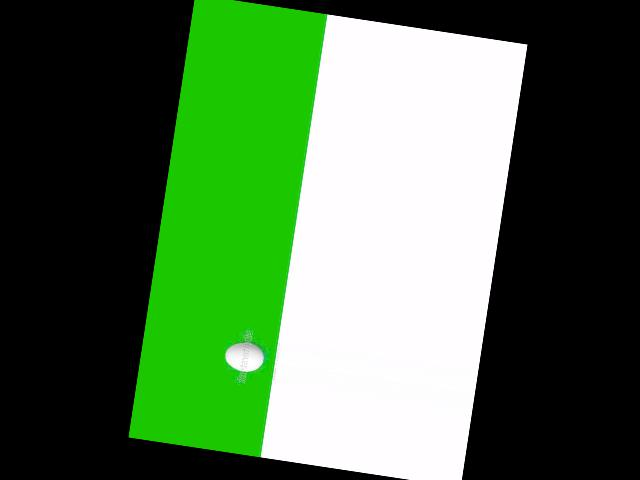egg: (223, 340, 265, 374)
